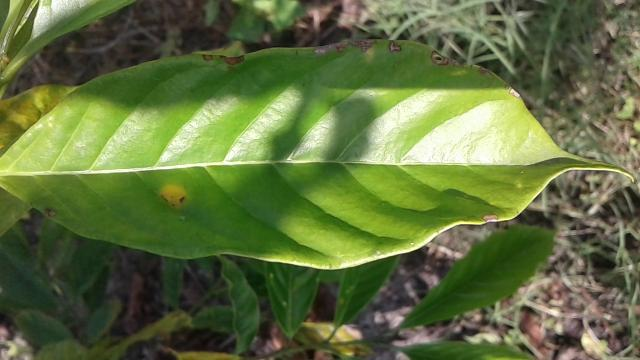rust_level_1: (0, 31, 640, 274)
